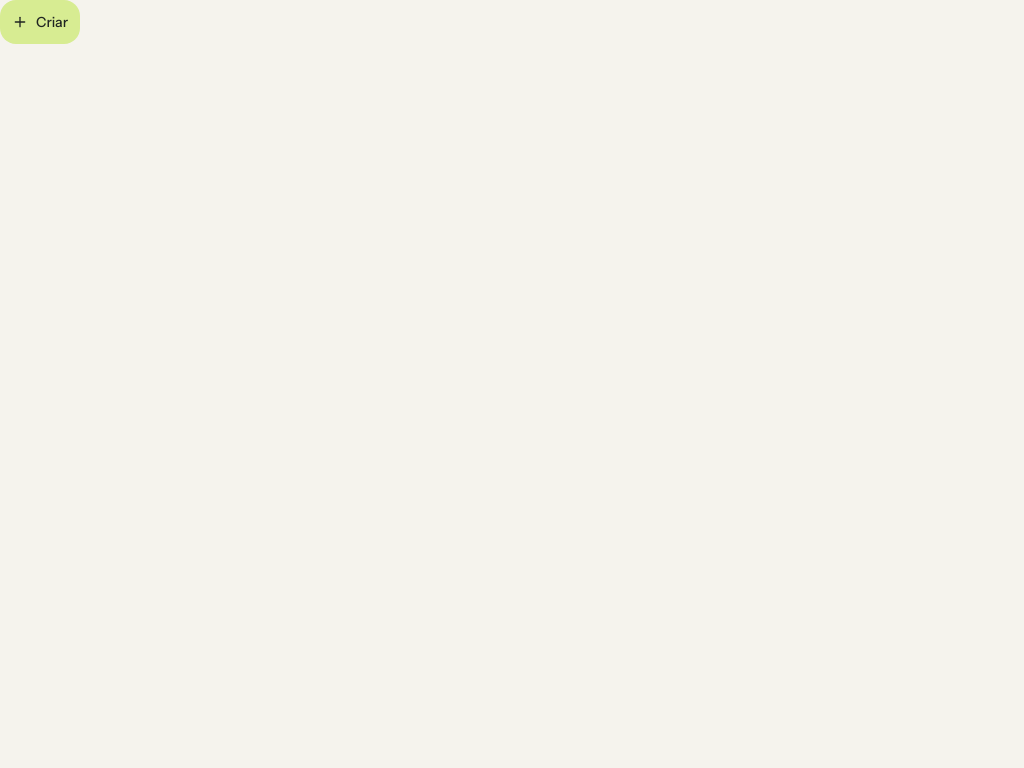
Test: Criar post — seleção de fotos › aceita JPEG, PNG e WebP na ordem da escolha, e escolher de novo acrescenta
Later steps or results of the test are not shown.
Click the button "Criar" at (40, 22), box [0,0,80,44]
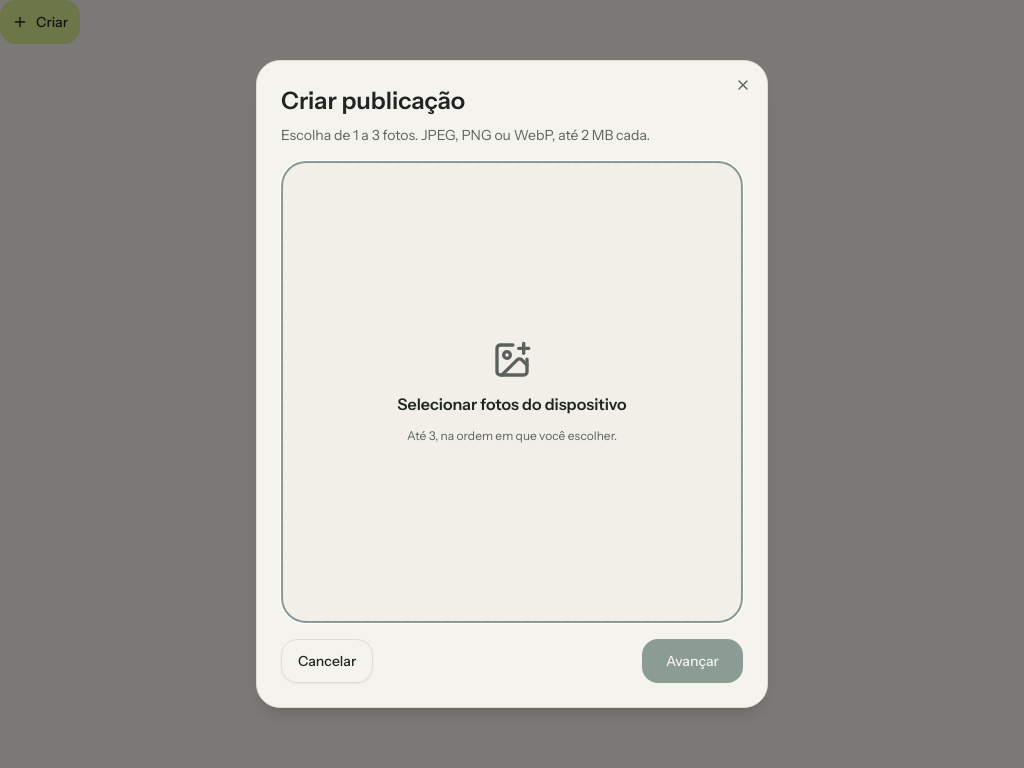
Check: the button "Avançar" is disabled, box [642,639,743,683]
